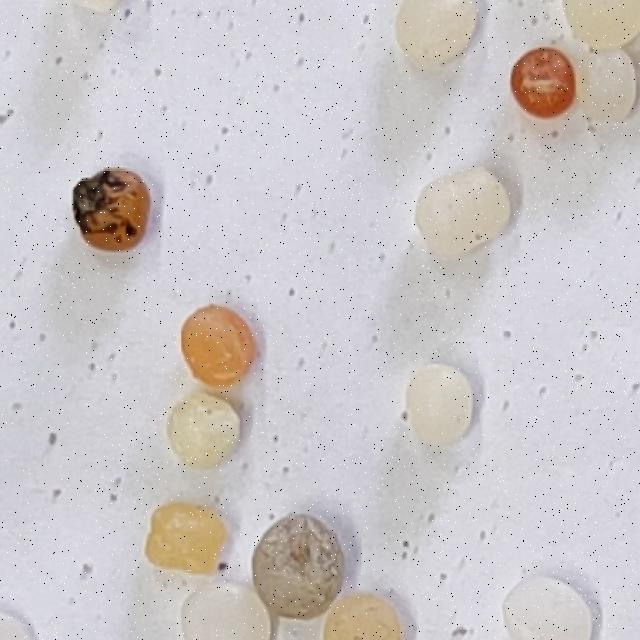beads: (405, 157, 522, 265), (168, 293, 271, 397), (250, 514, 346, 621), (153, 380, 253, 479), (501, 37, 590, 127), (68, 166, 153, 255), (401, 362, 478, 451), (396, 0, 480, 68), (506, 578, 594, 640), (578, 48, 640, 122), (324, 595, 403, 640)
fragments: (135, 492, 235, 587)
